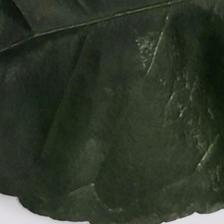healthy: (3, 8, 224, 224)
